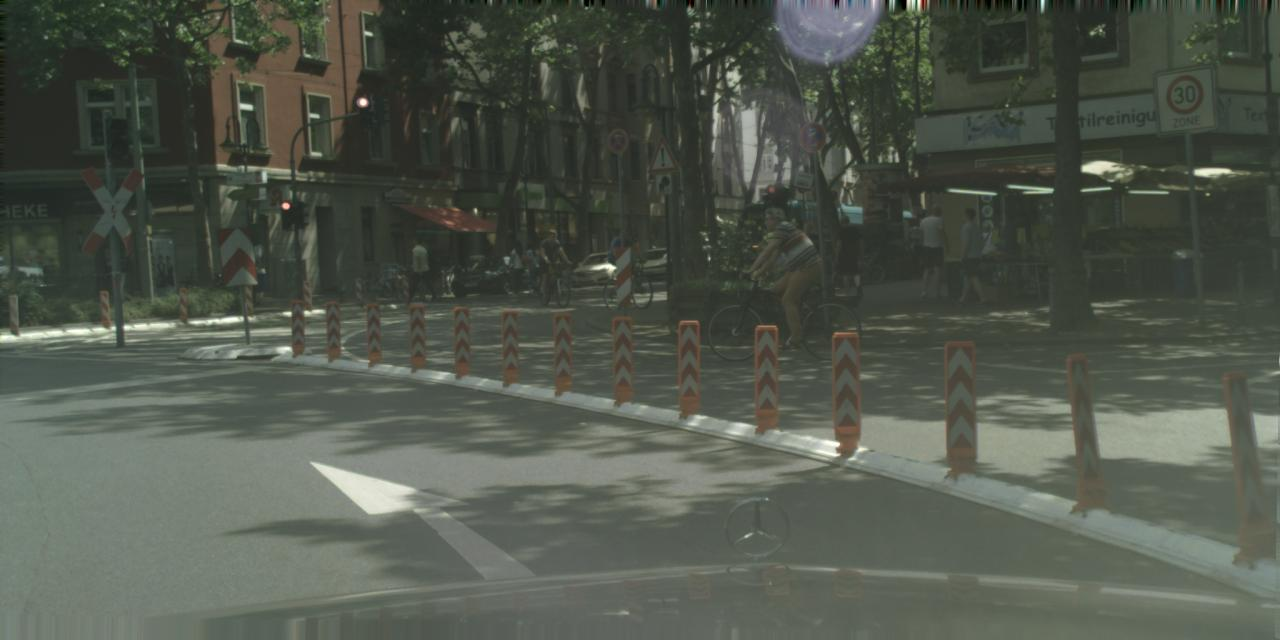ped: (760, 207, 809, 328), (948, 208, 988, 304), (914, 206, 951, 296), (832, 214, 866, 297), (795, 221, 828, 303), (1003, 212, 1033, 288), (405, 238, 431, 300), (610, 230, 635, 291), (539, 229, 564, 289), (417, 238, 441, 299), (906, 216, 930, 276), (508, 240, 530, 296), (521, 242, 543, 296)
